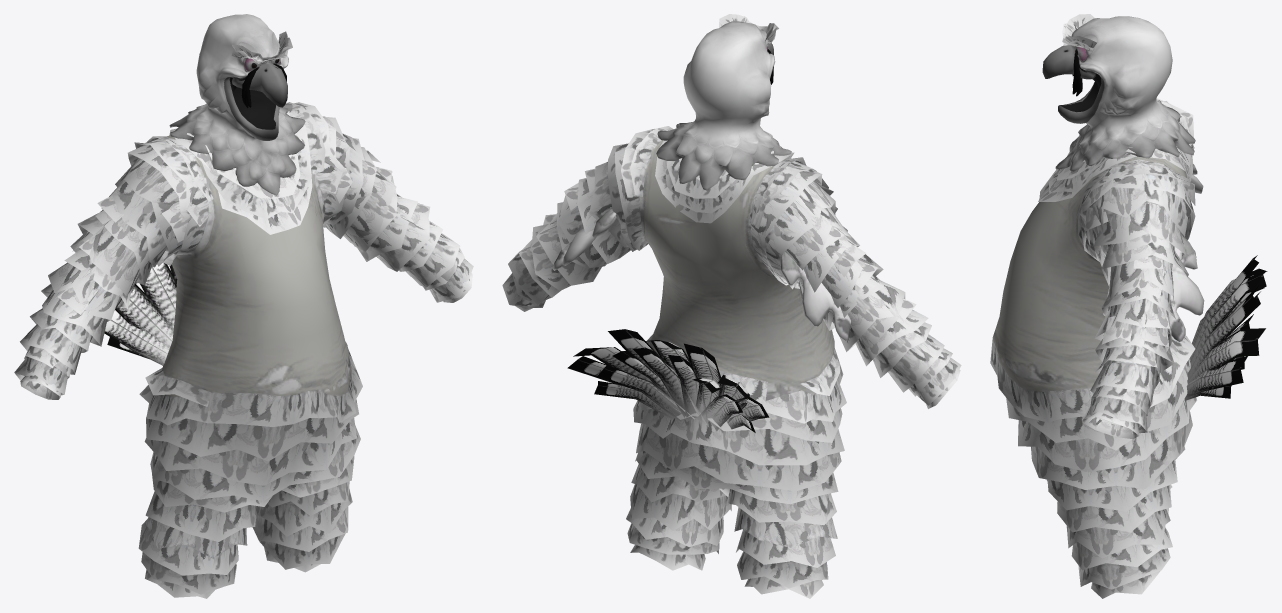
The model's file is SurvivorMale_Chest_TurkeySuit_LOD0.glb.
3 renders of one model, left to right at view 1: azimuth 30°, elevation 25°; view 2: azimuth 150°, elevation 25°; view 3: azimuth 270°, elevation 25°, orthographic.
Visible parts, largest first — view 1: Hoodie; view 2: Hoodie; view 3: Hoodie.
Part boxes in pixels (box(x1,y1,x2,y2)): Hoodie: box(14, 14, 473, 598); Hoodie: box(502, 14, 961, 598); Hoodie: box(990, 14, 1267, 598).
Bounding box in the file's own units: 1.21 × 1.45 × 0.6666.
Materials: 1 (1 with a texture image).
